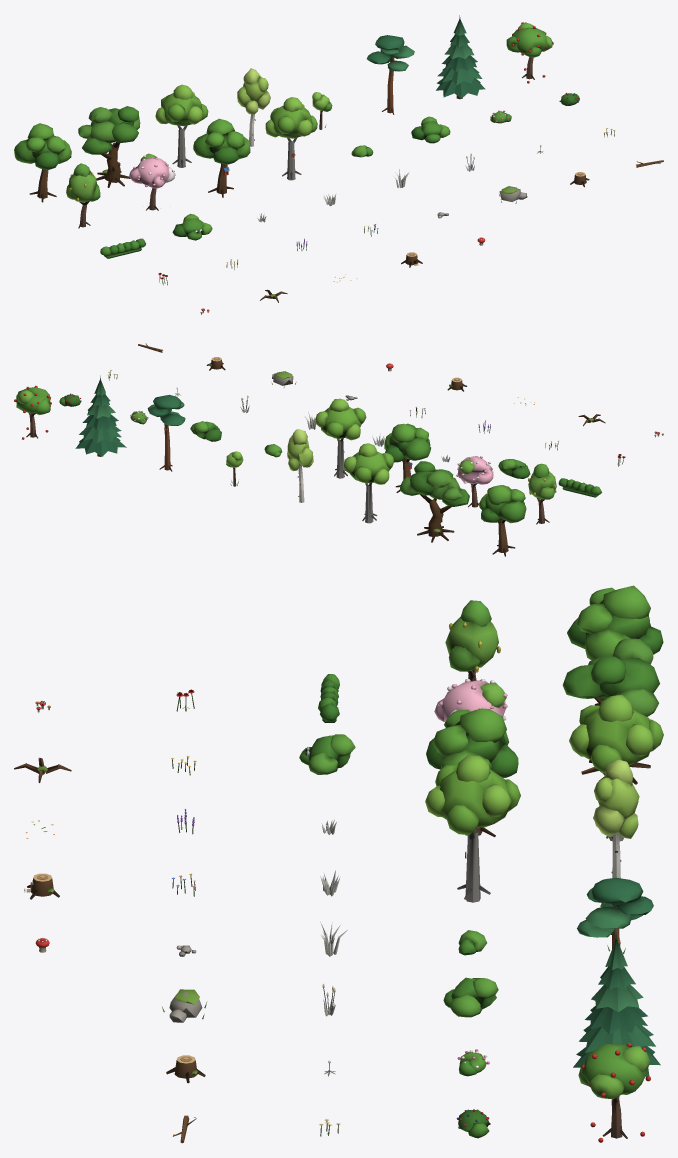
Rendered from nature.glb.
3 renders of one model, top to bottom at view 1: azimuth 30°, elevation 25°; view 2: azimuth 150°, elevation 25°; view 3: azimuth 270°, elevation 25°, orthographic. The views are drawn at different scales.
Visible parts, largest first — view 1: tree_oak_old, tree_oak_bird, tree_oak, tree_spruce, tree_beech_logo, tree_beech, tree_pine, tree_apple, tree_blossom, tree_birch, tree_pear, bush_big (+2 smaller); view 2: tree_oak_old, tree_spruce, tree_oak, tree_beech_logo, tree_beech, tree_oak_bird, tree_pine, tree_birch, tree_apple, tree_blossom, tree_pear, hedge (+2 smaller); view 3: tree_beech_logo, tree_oak_old, tree_beech, tree_spruce, tree_oak, tree_oak_bird, tree_apple, tree_birch, tree_pine, tree_pear, tree_blossom, bush_eyes (+3 smaller).
Boxes of the visible parts, x1,y1,x2,y2 form: tree_oak_old: [78, 106, 140, 187]; tree_oak_bird: [193, 118, 250, 197]; tree_oak: [14, 123, 71, 202]; tree_spruce: [436, 15, 485, 99]; tree_beech_logo: [265, 97, 317, 180]; tree_beech: [155, 84, 208, 167]; tree_pine: [367, 35, 414, 114]; tree_apple: [506, 22, 553, 83]; tree_blossom: [129, 153, 175, 210]; tree_birch: [237, 68, 270, 146]; tree_pear: [66, 163, 100, 228]; bush_big: [411, 116, 450, 143]; tree_oak_old: [400, 461, 469, 542]; tree_spruce: [75, 375, 126, 456]; tree_oak: [478, 485, 526, 556]; tree_beech_logo: [315, 398, 366, 478]; tree_beech: [344, 443, 393, 523]; tree_oak_bird: [384, 423, 430, 492]; tree_pine: [147, 394, 185, 471]; tree_birch: [287, 429, 313, 502]; tree_apple: [14, 385, 51, 439]; tree_blossom: [456, 456, 493, 508]; tree_pear: [528, 463, 556, 524]; hedge: [558, 478, 601, 497]; tree_beech_logo: [425, 755, 520, 902]; tree_oak_old: [562, 638, 659, 784]; tree_beech: [569, 694, 663, 841]; tree_spruce: [573, 932, 660, 1076]; tree_oak: [567, 585, 663, 705]; tree_oak_bird: [426, 708, 518, 837]; tree_apple: [578, 1043, 650, 1142]; tree_birch: [593, 759, 639, 878]; tree_pine: [577, 877, 653, 948]; tree_pear: [445, 600, 500, 681]; tree_blossom: [434, 679, 507, 722]; bush_eyes: [299, 734, 355, 774].
Size of the model in its own units: 8.4 by 1.27 by 4.98.
